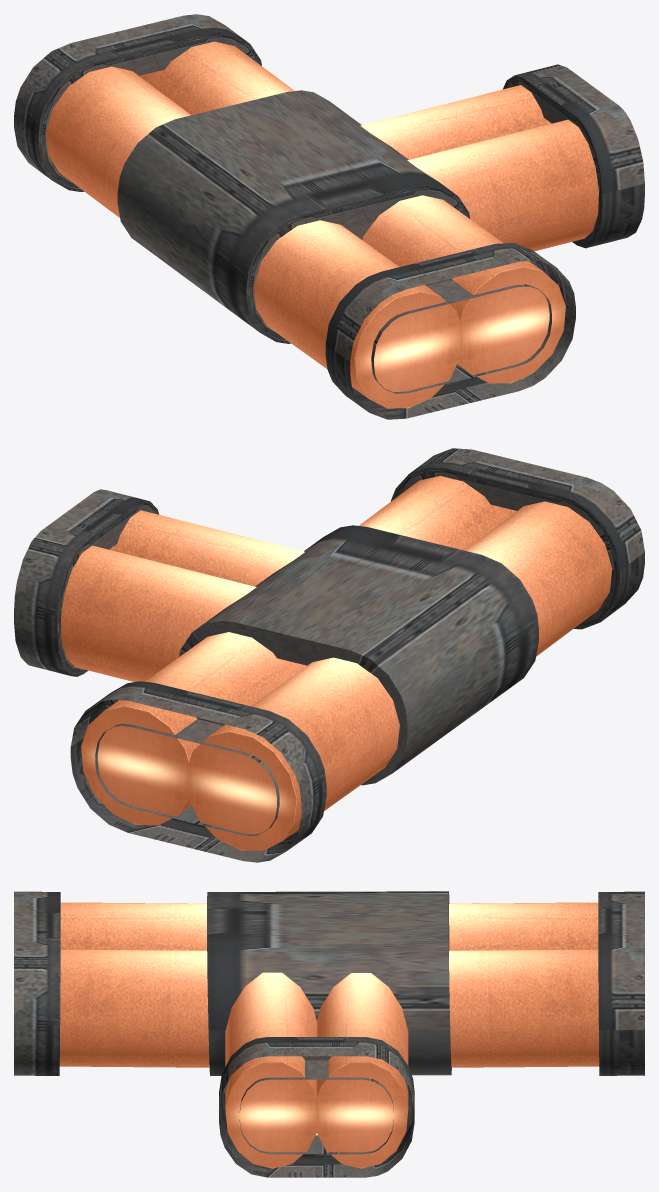
The model's file is heat-pipe-t-right.glb.
3 views of the same model, one above another, from view 1: azimuth 30°, elevation 25°; view 2: azimuth 150°, elevation 25°; view 3: azimuth 270°, elevation 25° (orthographic). The views are drawn at different scales.
Parts seen in each view (by area): view 1: heat-pipe-t-right; view 2: heat-pipe-t-right; view 3: heat-pipe-t-right.
Part boxes in pixels (x1=…): heat-pipe-t-right: x1=14, y1=14, x2=644, y2=419; heat-pipe-t-right: x1=14, y1=448, x2=644, y2=862; heat-pipe-t-right: x1=14, y1=891, x2=644, y2=1177.
Size of the model in its own units: 0.6939 by 0.2136 by 1.
2 materials, 2 textured.
